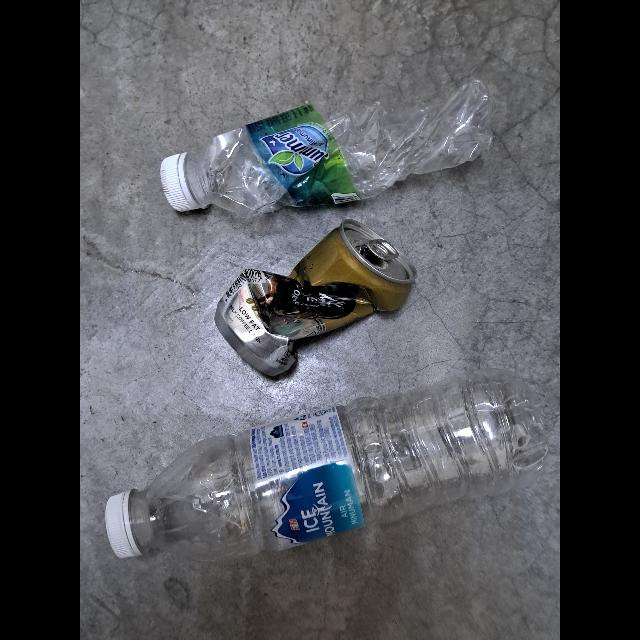aba de lata: (366, 238, 399, 262)
garrafa plástica: (138, 374, 548, 560), (197, 72, 498, 216)
lata: (214, 218, 416, 382)
tampa plástica: (160, 150, 202, 213), (105, 488, 141, 558)
